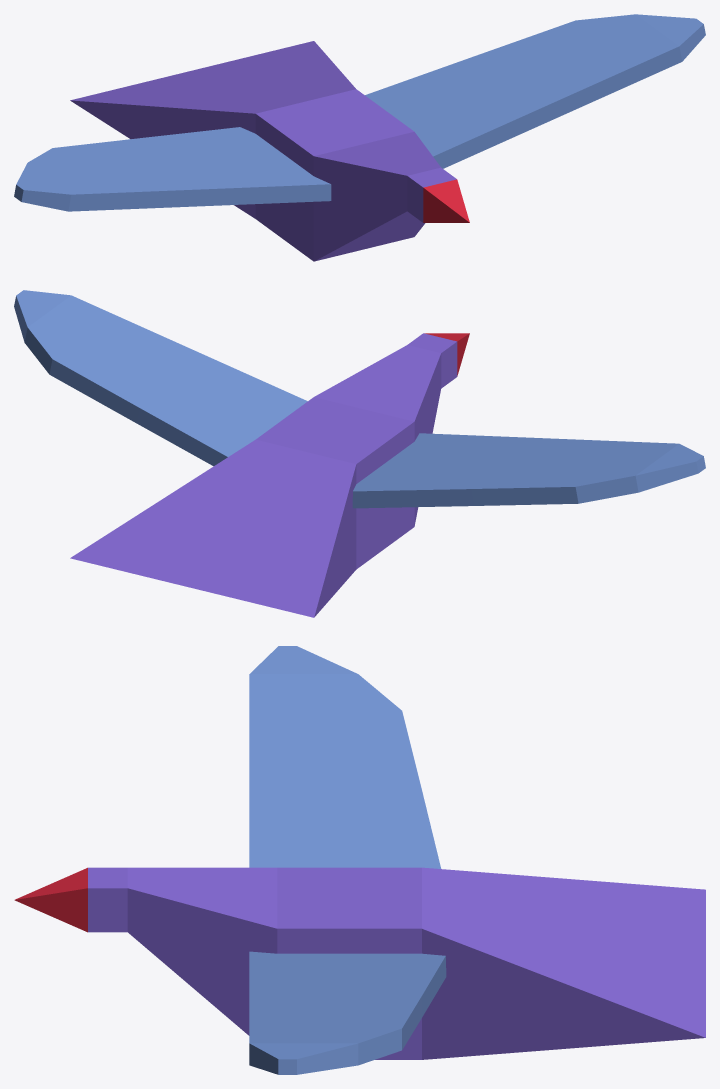
The model's file is bird0.fbx.
The picture shows the model from 3 angles, top to bottom: view 1: azimuth 30°, elevation 25°; view 2: azimuth 150°, elevation 25°; view 3: azimuth 270°, elevation 25°; orthographic projection. The views are drawn at different scales.
Parts seen in each view (by area): view 1: Cube.001, Cube; view 2: Cube, Cube.001; view 3: Cube, Cube.001.
Boxes of the visible parts, left/top/right/bottom form: Cube.001: left=14, top=14, right=705, bottom=211; Cube: left=70, top=41, right=469, bottom=261; Cube: left=70, top=333, right=469, bottom=617; Cube.001: left=14, top=290, right=705, bottom=508; Cube: left=14, top=867, right=705, bottom=1059; Cube.001: left=249, top=646, right=446, bottom=1074.
Size of the model in its own units: 460 by 91.22 by 324.
